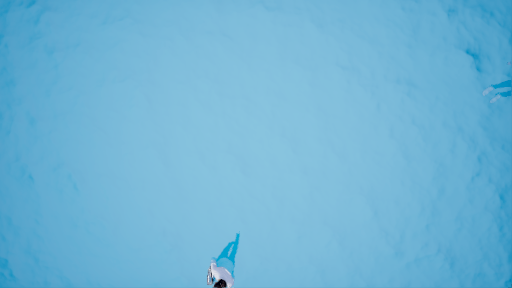person: (193, 227, 251, 288)
